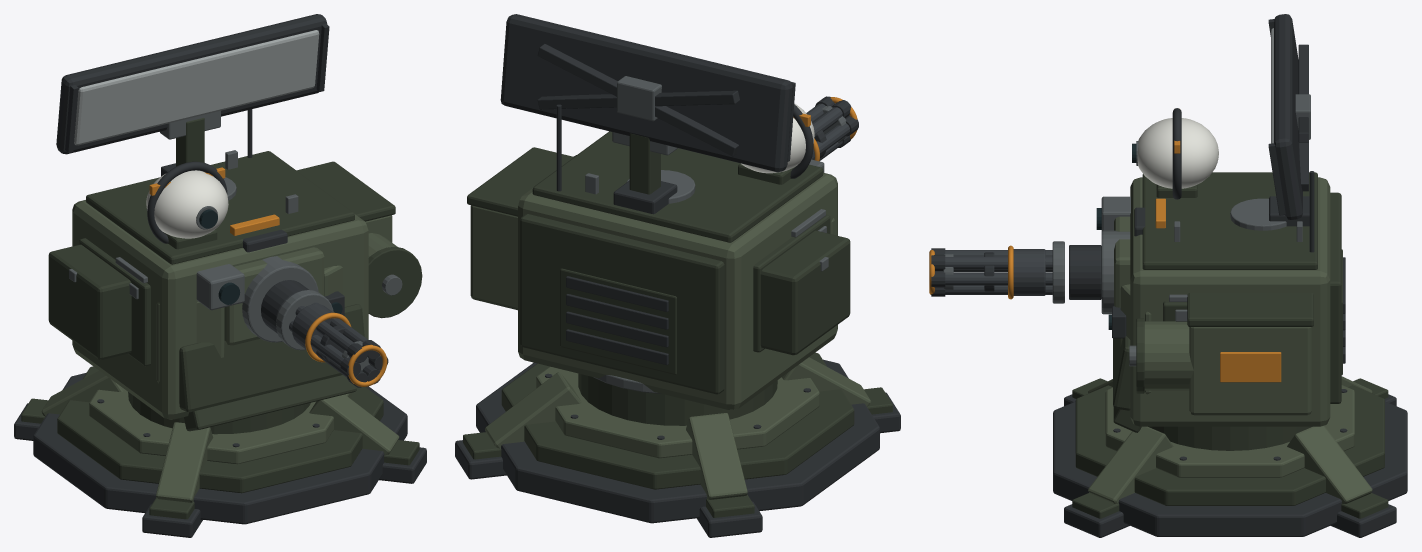
Rendered from Phalanx.fbx.
3 renders of one model, left to right at view 1: azimuth 30°, elevation 25°; view 2: azimuth 150°, elevation 25°; view 3: azimuth 270°, elevation 25°, orthographic. The views are drawn at different scales.
Visible parts, largest first — view 1: PHX_Turret_Shell, PHX_Radar_Face, PHX_Base_Plate, PHX_Turret_Roof, PHX_Base_Riser, PHX_Turret_Front_Plate, PHX_Electronics_Box, PHX_Base_Deck, PHX_Radar_Frame, PHX_Radome_Dome, PHX_Turret_Glacis, PHX_Leg_3 (+31 smaller); view 2: PHX_Radar_Frame, PHX_Turret_Back_Plate, PHX_Turret_Shell, PHX_Base_Plate, PHX_Turret_Roof, PHX_Base_Riser, PHX_Electronics_Box, PHX_Base_Deck, PHX_Vent_Frame, PHX_Ammo_Box, PHX_Base_Hub, PHX_Leg_2 (+23 smaller); view 3: PHX_Turret_Shell, PHX_Turret_Roof, PHX_Base_Plate, PHX_Base_Riser, PHX_Ammo_Box, PHX_Base_Deck, PHX_Radar_Frame, PHX_Ammo_Lid, PHX_Radome_Dome, PHX_Ammo_Drum, PHX_Leg_1, PHX_Leg_4 (+22 smaller).
Boxes of the visible parts, x1,y1,x2,y2 form: PHX_Turret_Shell: (72, 200, 368, 419); PHX_Radar_Face: (74, 30, 319, 145); PHX_Base_Plate: (33, 372, 407, 524); PHX_Turret_Roof: (86, 151, 354, 264); PHX_Base_Riser: (57, 366, 383, 493); PHX_Turret_Front_Plate: (179, 304, 364, 412); PHX_Electronics_Box: (48, 244, 131, 359); PHX_Base_Deck: (89, 389, 351, 464); PHX_Radar_Frame: (56, 14, 327, 154); PHX_Radome_Dome: (146, 170, 228, 238); PHX_Turret_Glacis: (183, 375, 356, 431); PHX_Leg_3: (156, 422, 213, 502); PHX_Radar_Frame: (500, 14, 793, 172); PHX_Turret_Back_Plate: (520, 214, 724, 394); PHX_Turret_Shell: (518, 172, 837, 409); PHX_Base_Plate: (476, 359, 879, 523); PHX_Turret_Roof: (532, 131, 823, 242); PHX_Base_Riser: (501, 352, 854, 489); PHX_Electronics_Box: (760, 230, 850, 355); PHX_Base_Deck: (536, 366, 819, 458); PHX_Vent_Frame: (560, 268, 676, 374); PHX_Ammo_Box: (470, 205, 517, 310); PHX_Base_Hub: (578, 373, 777, 425); PHX_Leg_2: (686, 413, 747, 499); PHX_Turret_Shell: (1130, 177, 1330, 426); PHX_Turret_Roof: (1142, 172, 1317, 269); PHX_Base_Plate: (1053, 401, 1407, 536); PHX_Base_Riser: (1075, 385, 1384, 505); PHX_Ammo_Box: (1189, 327, 1311, 415); PHX_Base_Deck: (1105, 385, 1354, 477); PHX_Radar_Frame: (1274, 14, 1302, 219); PHX_Ammo_Lid: (1187, 293, 1313, 326); PHX_Radome_Dome: (1137, 118, 1218, 188); PHX_Ammo_Drum: (1144, 321, 1193, 390); PHX_Leg_1: (1287, 425, 1372, 503); PHX_Leg_4: (1088, 426, 1173, 503).
Bounding box in the file's own units: 1.76 × 2.12 × 2.34.
